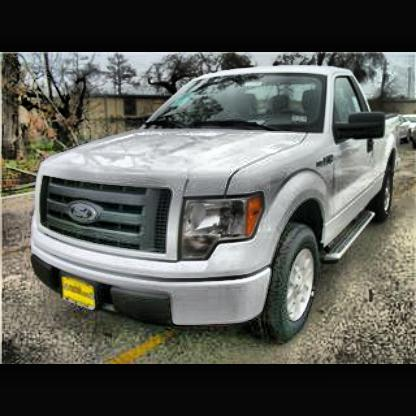Ford F-150 Regular Cab 2012: (31, 67, 400, 345)
